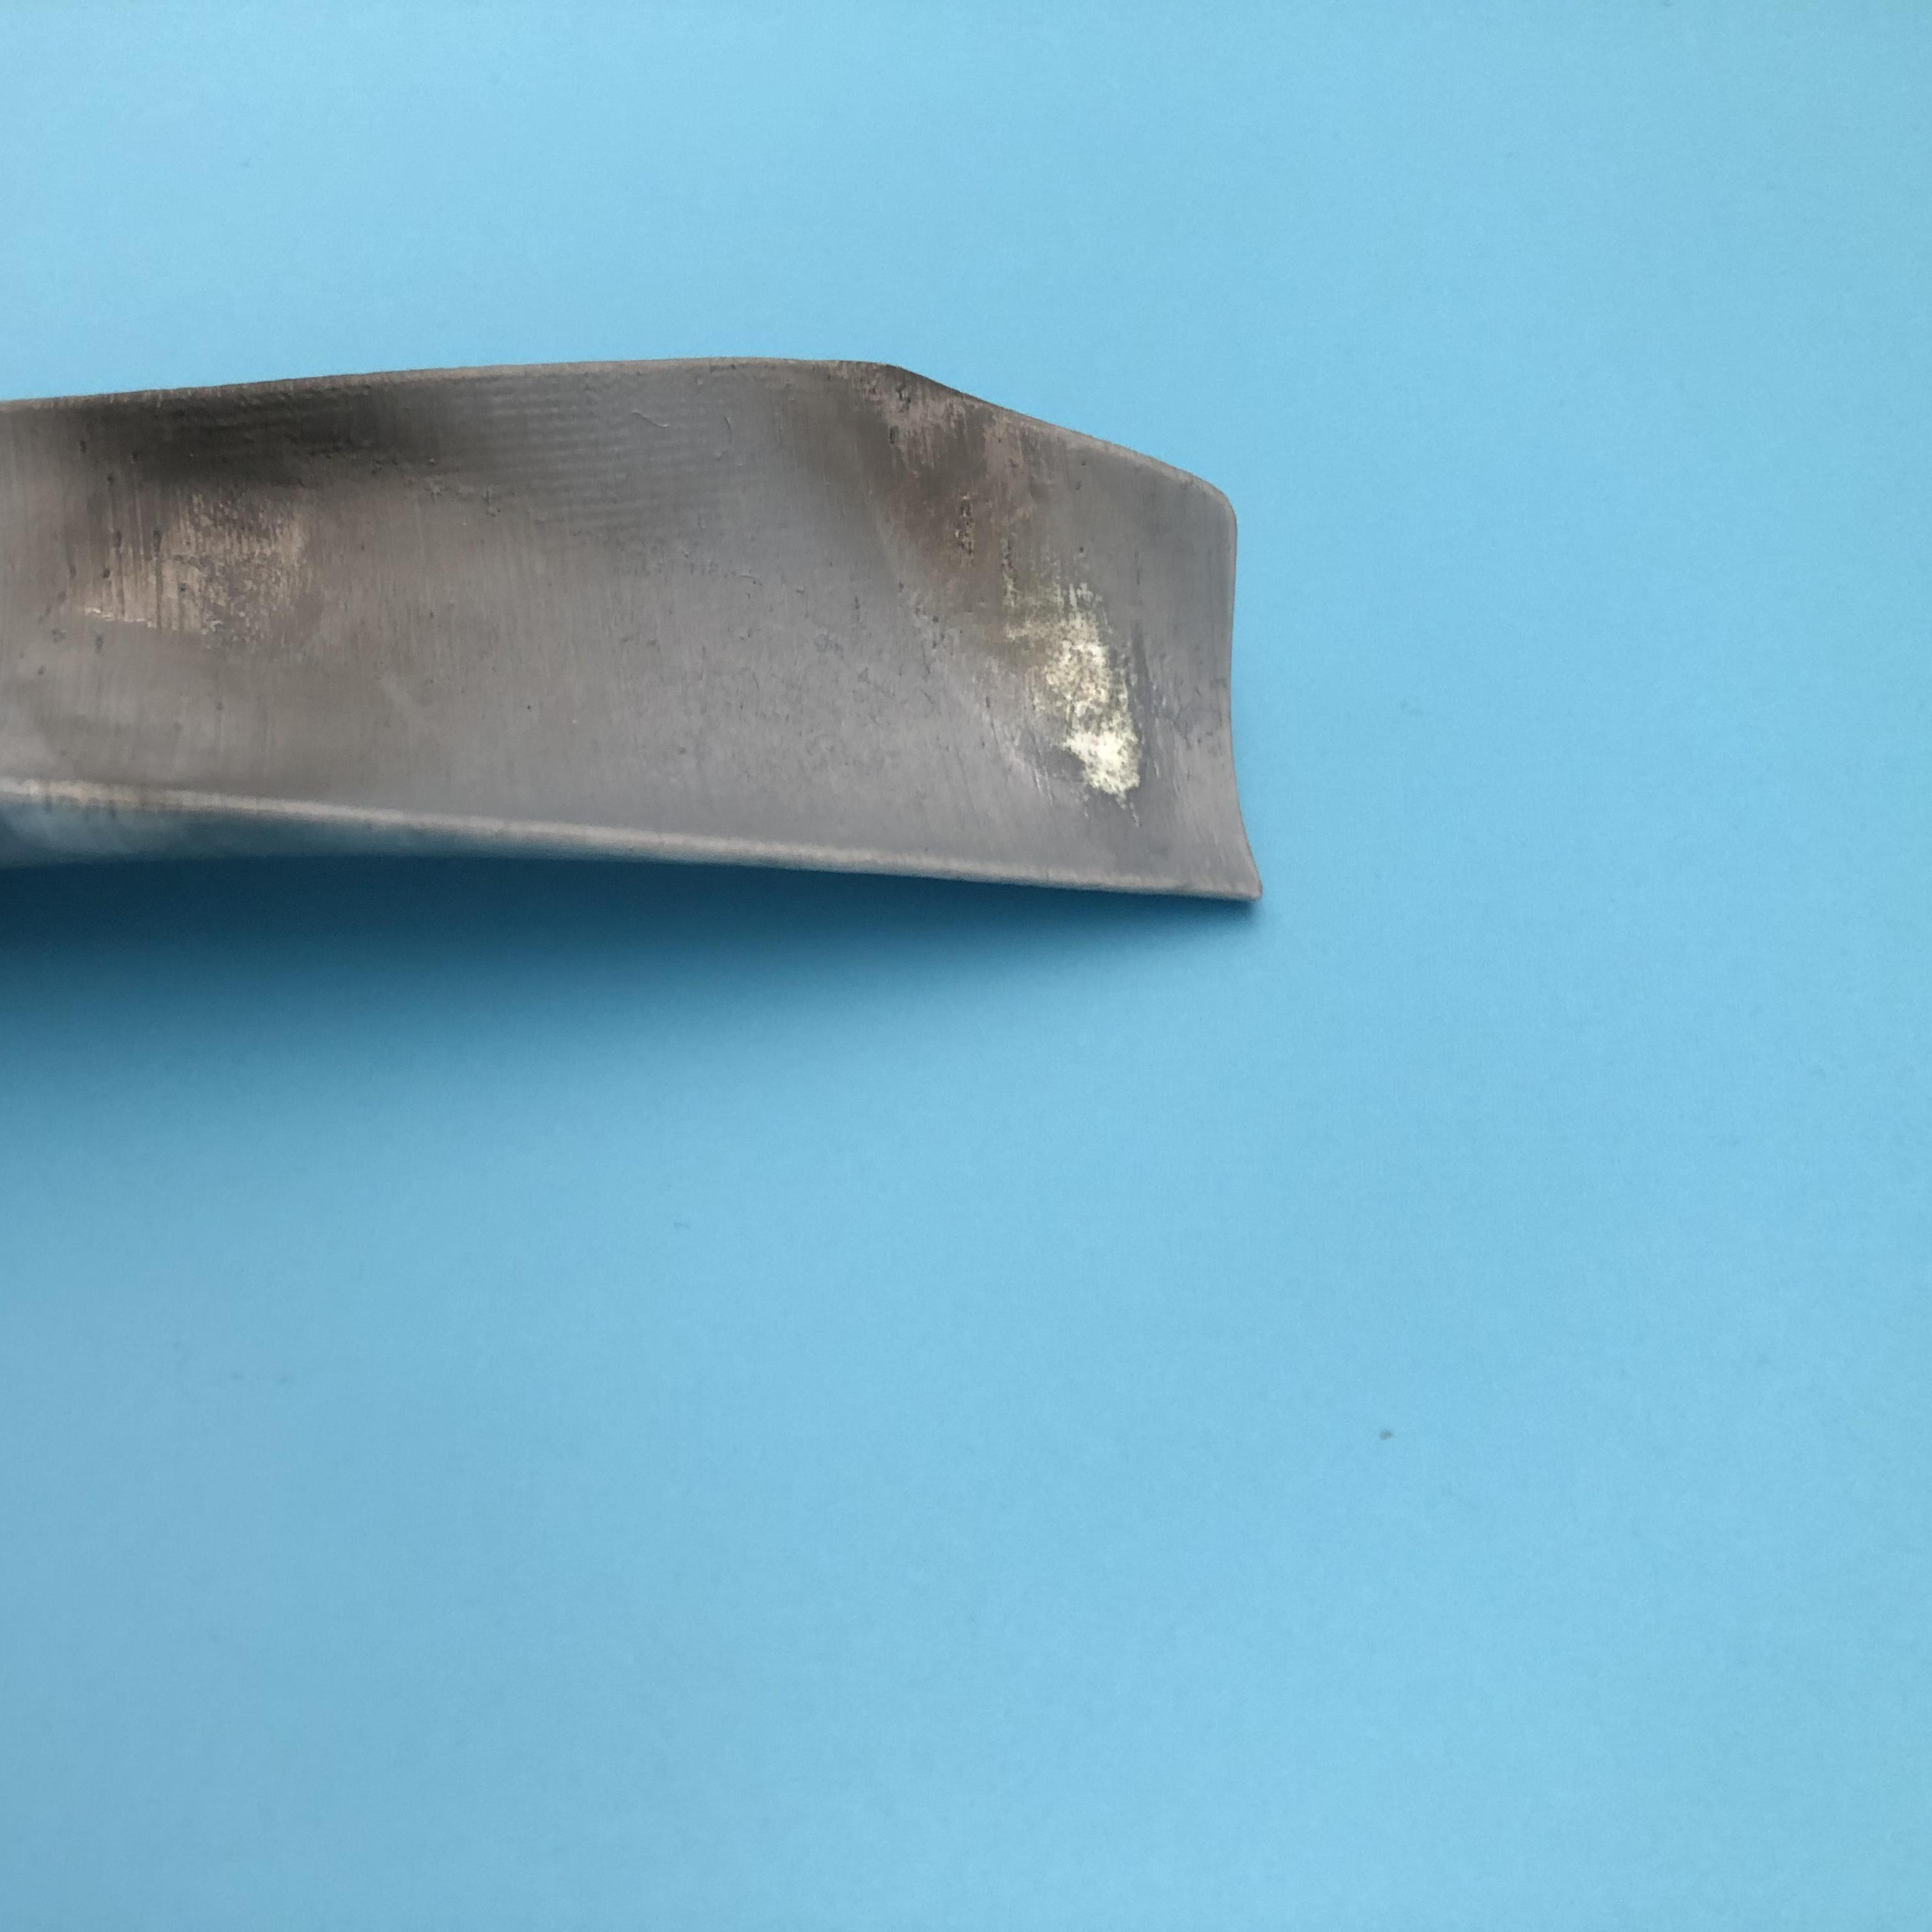ablation: (16, 396, 479, 754), (840, 375, 1161, 800)
